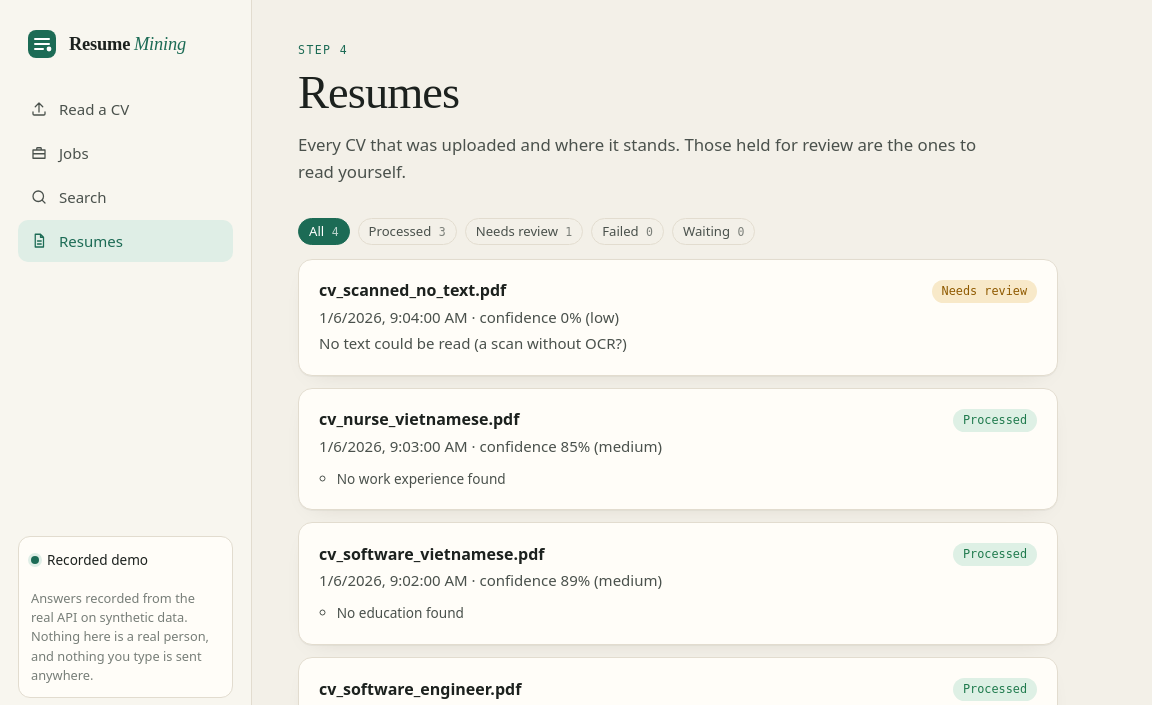
Test case: the recorded demo, end to end › filters the resume list by state
Click the button "Needs review 1": (524, 231) [465,218,583,245]
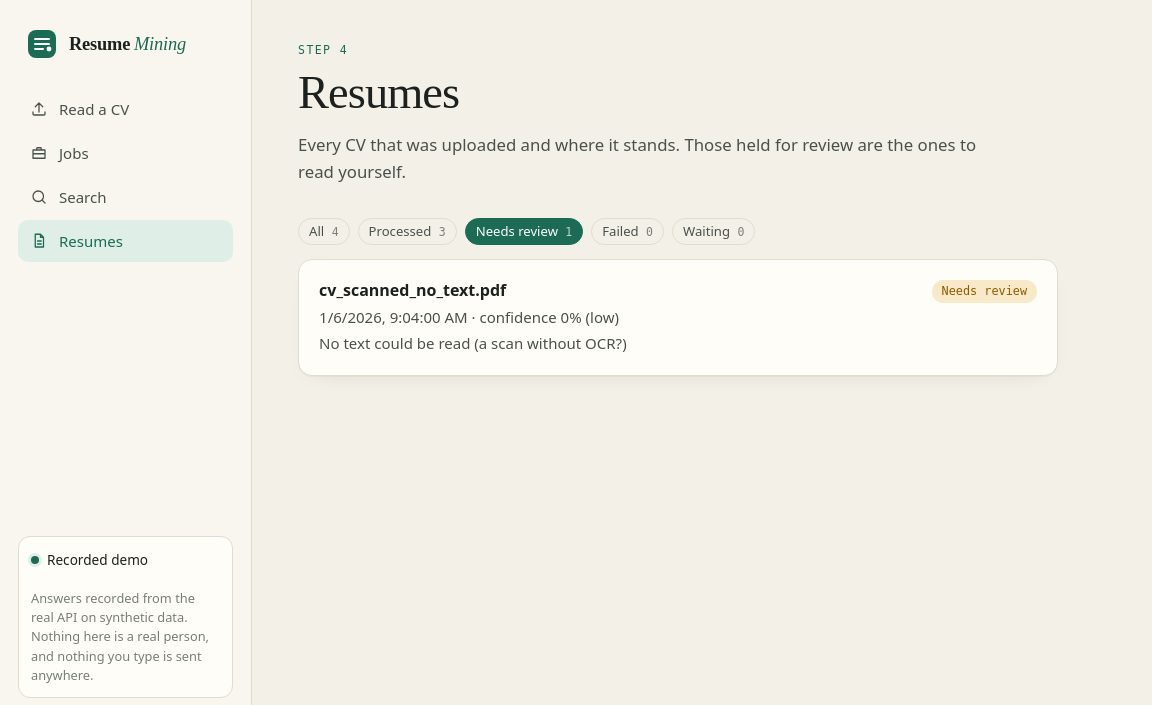
Check: the number of list items is 1, box [298,259,1058,376]
